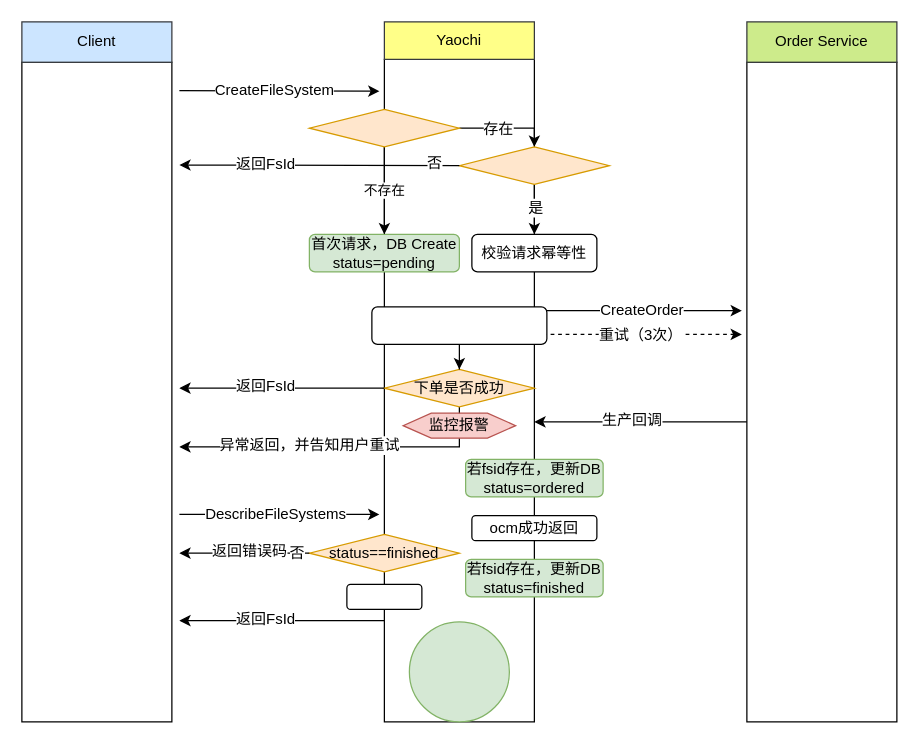
The diagram is 919 pixels wide and 744 high, and some of its shapes have lost their labels. The centre of each missing label's shape, as x and y in pixels:
"status==pending" belongs at point (533, 165).
"下单" belongs at point (459, 325).
"以30天为周期进行自动回收" belongs at point (458, 671).
"加载ClientToken" belongs at point (383, 127).
"正常查询" belongs at point (384, 596).
